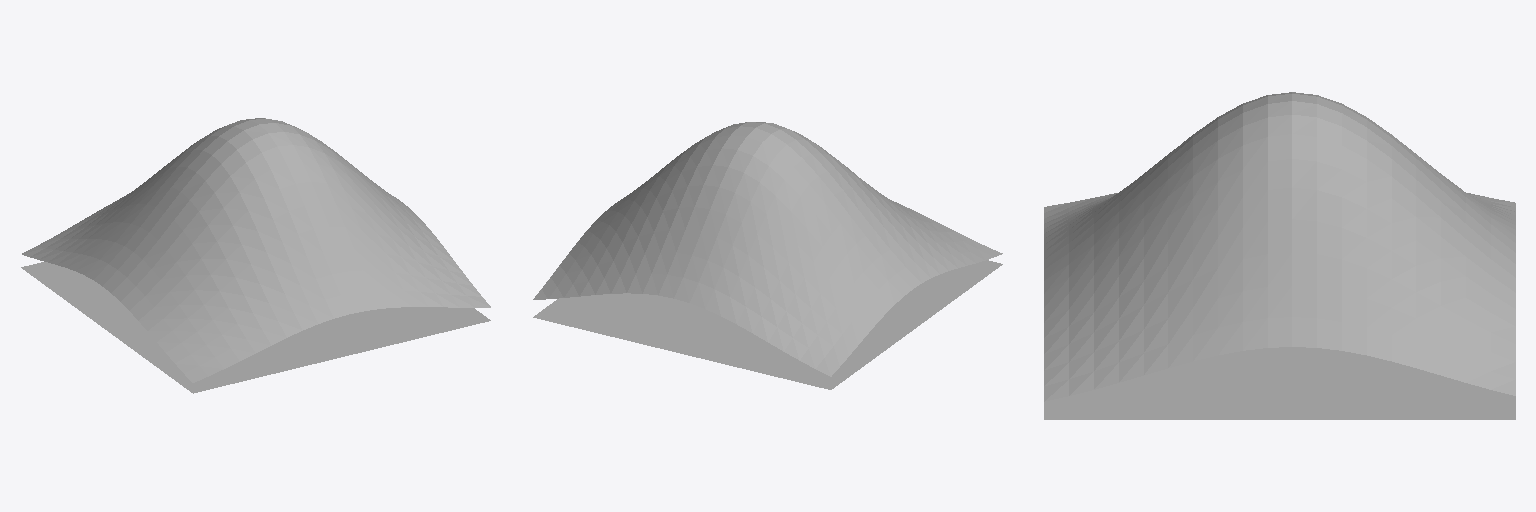
The robot description file, URDF, robot "mountain":
<?xml version="1.0"?>
<robot name="mountain">
  <link name="baseLink">
    <inertial>
      <origin xyz="0 0 0" rpy="0 0 0"/>
      <mass value="1"/>
      <inertia ixx="1" ixy="0" ixz="0" iyy="1" iyz="0" izz="1"/>
    </inertial>
    <visual>
      <origin xyz="0 0 0" rpy="0 0 0"/>
      <geometry>
        <mesh filename="mountain_steep.obj" scale="1 1 1"/>
      </geometry>
      <material name="gray">
        <color rgba="0.7 0.7 0.7 1"/>
      </material>
    </visual>
    <collision>
      <origin xyz="0 0 0" rpy="0 0 0"/>
      <geometry>
        <mesh filename="mountain_steep.obj" scale="1 1 1"/>
      </geometry>
    </collision>
  </link>
</robot>

--- What the picture shows (computed from the rendered views, not written in the file) ---
The picture shows the robot from 3 angles, left to right: view 1: azimuth 30°, elevation 25°; view 2: azimuth 150°, elevation 25°; view 3: azimuth 270°, elevation 25°; orthographic projection.
Model mountain with 1 links and 0 joints (none), rooted at baseLink, posed all joints at 0.
Visible links, largest first — view 1: baseLink; view 2: baseLink; view 3: baseLink.
Boxes of the visible links, left/top/right/bottom form: baseLink: left=21, top=118, right=490, bottom=393; baseLink: left=533, top=122, right=1002, bottom=389; baseLink: left=1044, top=92, right=1515, bottom=419.
Bounding box of the posed robot: 9.5 × 9.5 × 5 m (x, y, z).
Meshes: 1 distinct files referenced, 1 mesh visuals loaded (1 OBJ).